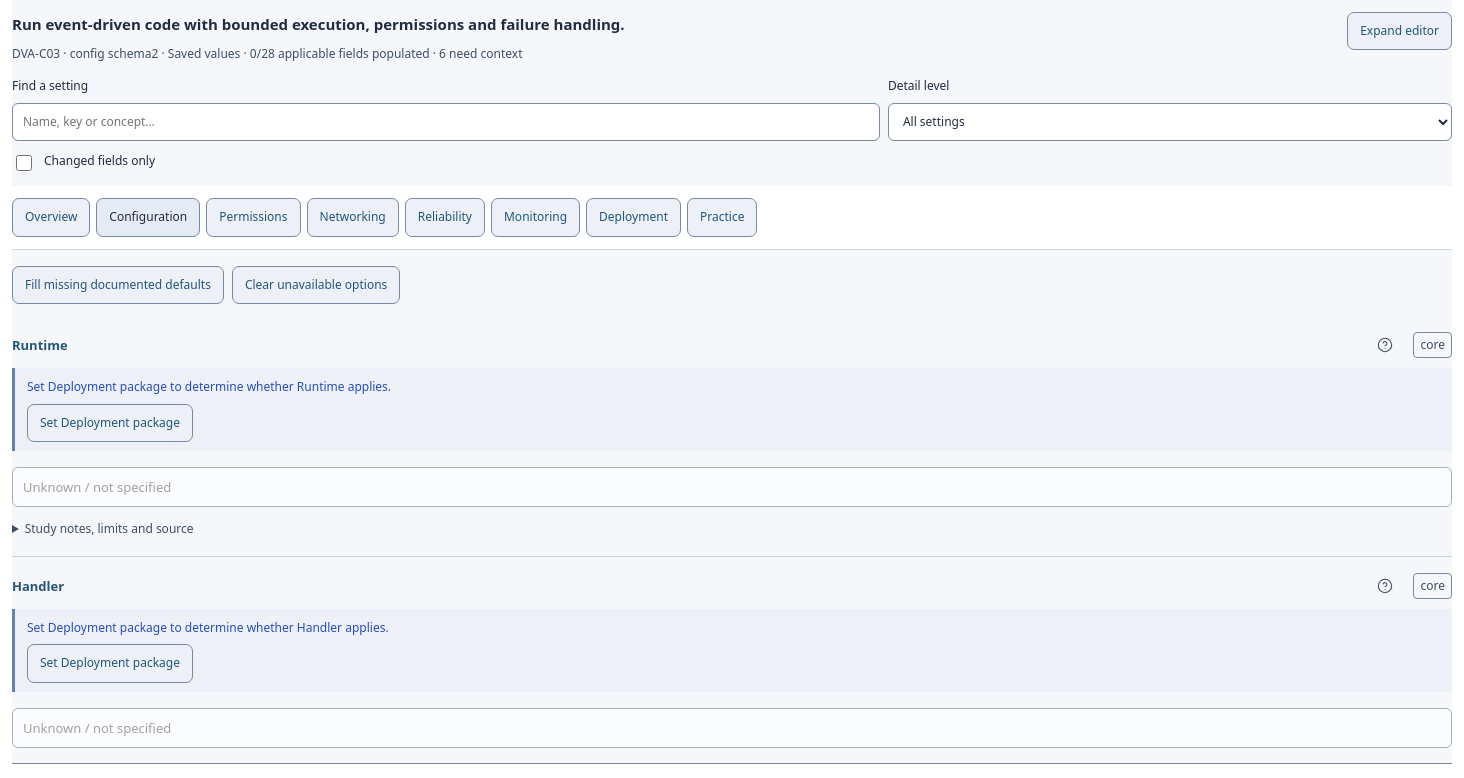
it: jumps from a disabled runtime to the package prerequisite across tabs
Step 1. Click the 1st button "Set Deployment package" → x=110, y=423, box [27,404,193,442]
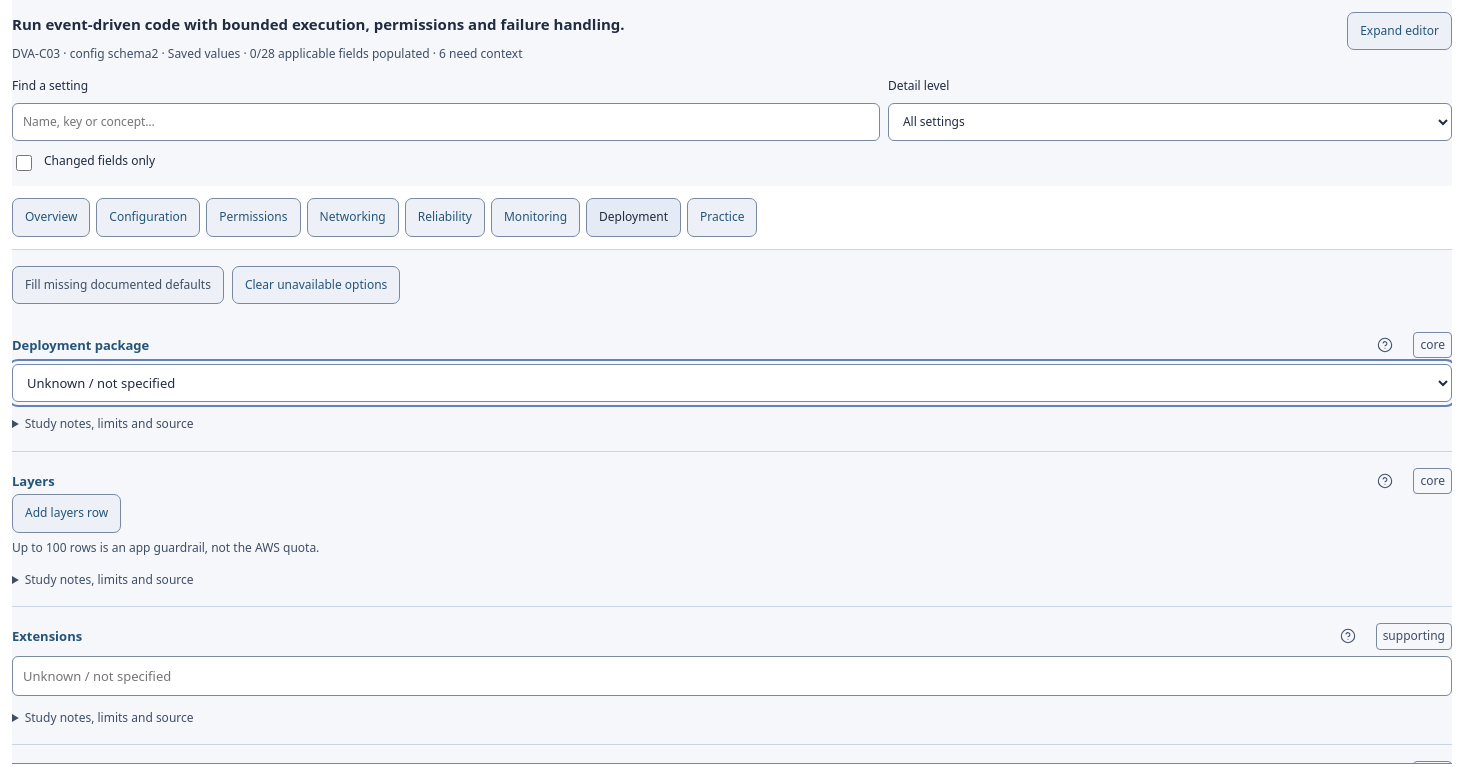
Expected: the tab "Deployment" is selected, [586,198,681,237]
Step 2. Select "Zip" in the dropdown labelled "Deployment package" → x=732, y=383, box [12,364,1452,402]
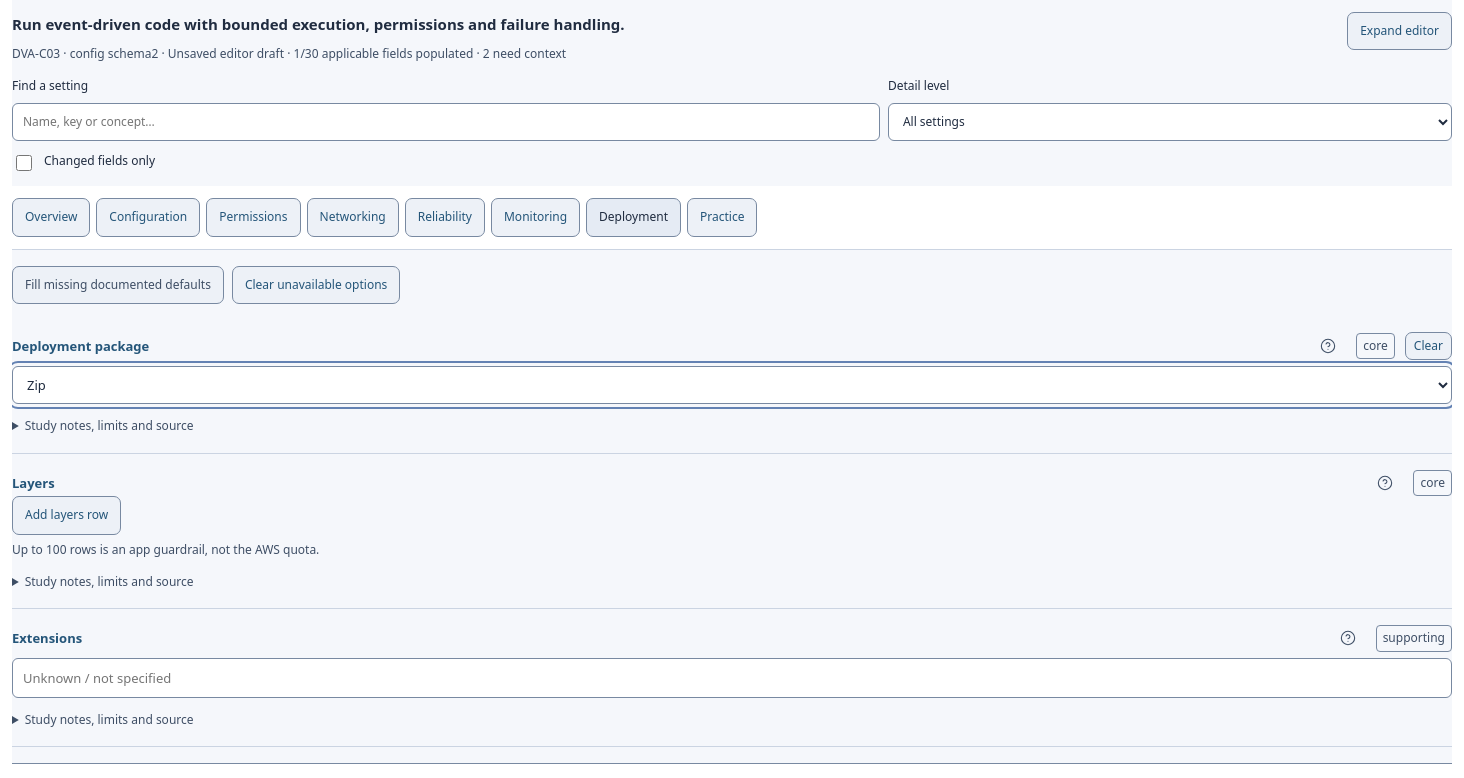
Step 3. Click the tab "Configuration" → x=148, y=217, box [96,198,200,237]
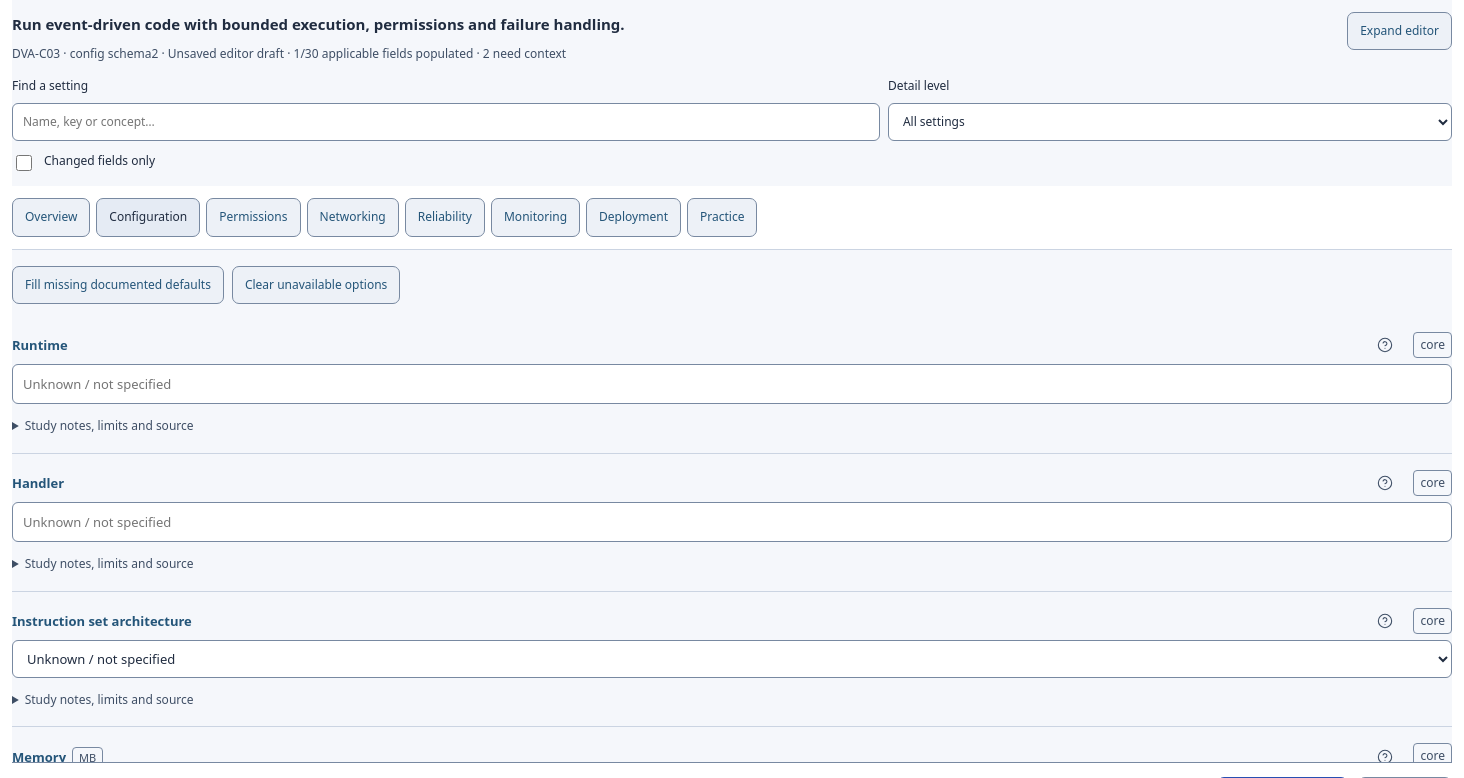
Expected: the field labelled "Runtime" is enabled, [12,364,1452,404]
